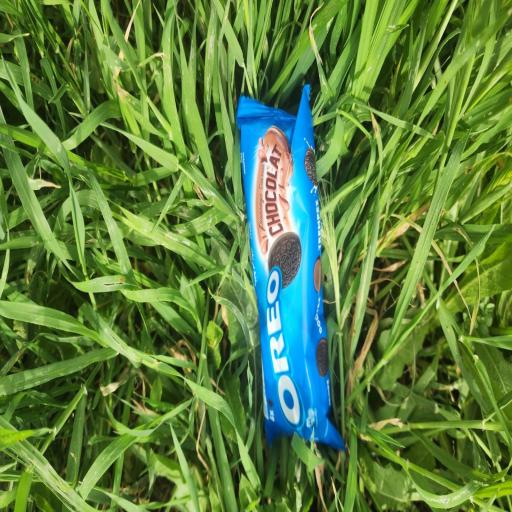oreo: (202, 52, 370, 474)
